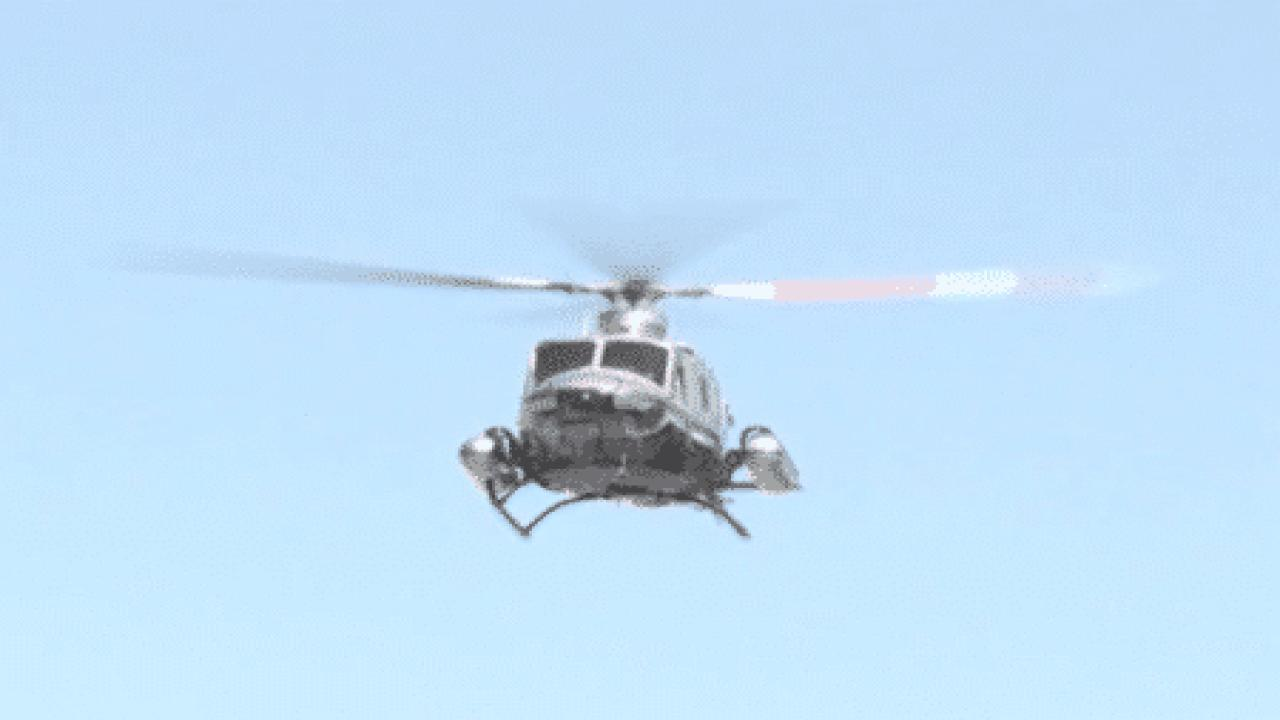Helicopter: (67, 226, 1215, 548)
